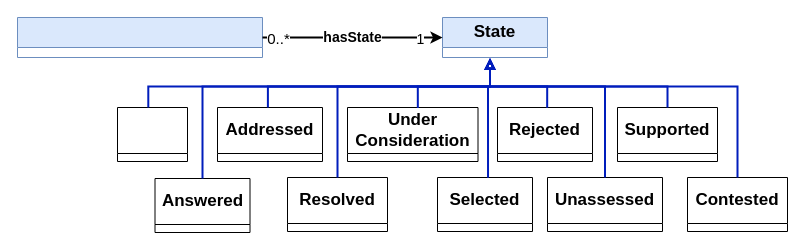
This 805x250 diagram has some shape labels left out. The centre of each missing label's shape, as x and y in pixels:
ConversationMoveWithState: point 139,37
Open: point 152,134
